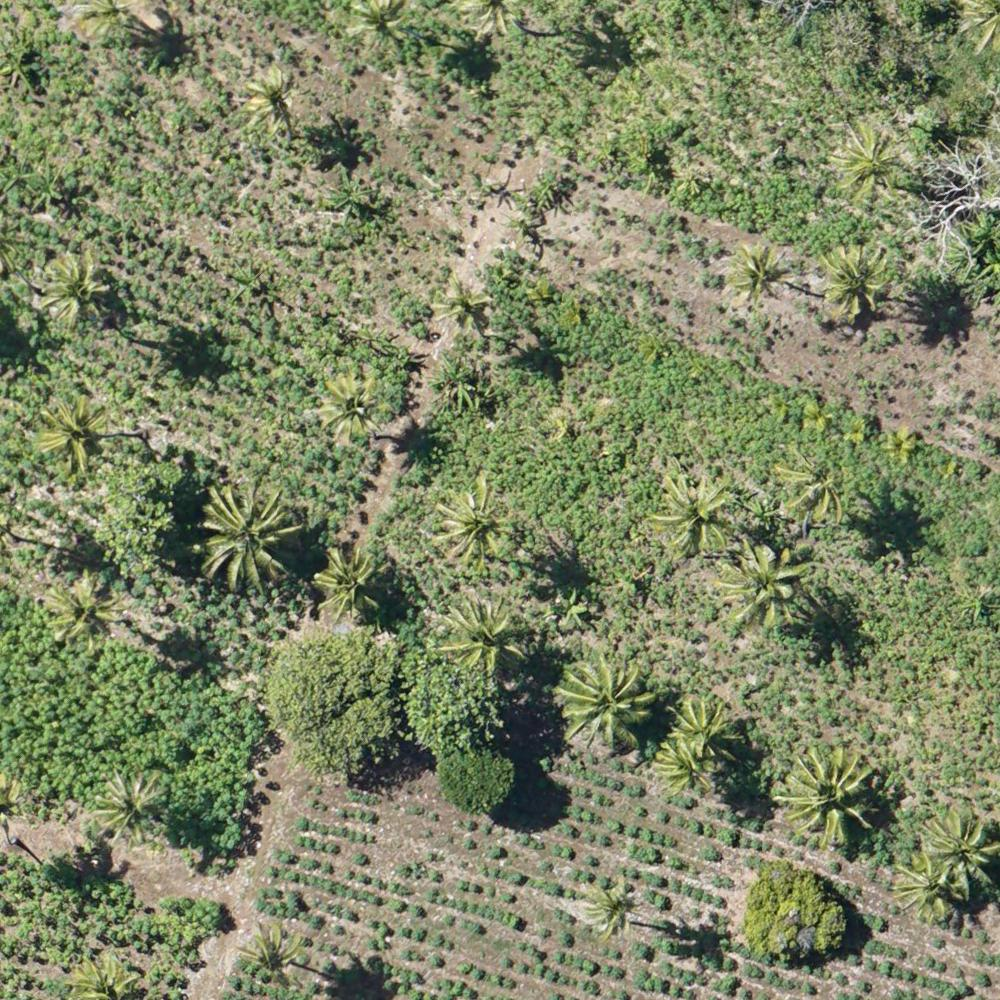Palm: (196, 489, 295, 583), (784, 755, 882, 843), (719, 539, 813, 628), (561, 662, 657, 746), (653, 473, 735, 558), (438, 598, 524, 676), (437, 484, 518, 566), (826, 126, 904, 204), (928, 814, 1000, 897), (36, 396, 109, 475), (776, 450, 851, 525), (817, 246, 893, 319), (40, 254, 111, 329), (235, 924, 311, 992), (901, 850, 969, 924), (47, 575, 122, 641), (101, 769, 166, 845), (240, 66, 305, 140), (315, 547, 383, 614), (674, 695, 740, 759), (345, 1, 415, 57), (323, 377, 382, 442), (654, 739, 720, 794), (731, 242, 786, 305), (435, 276, 491, 332), (590, 880, 638, 934)
